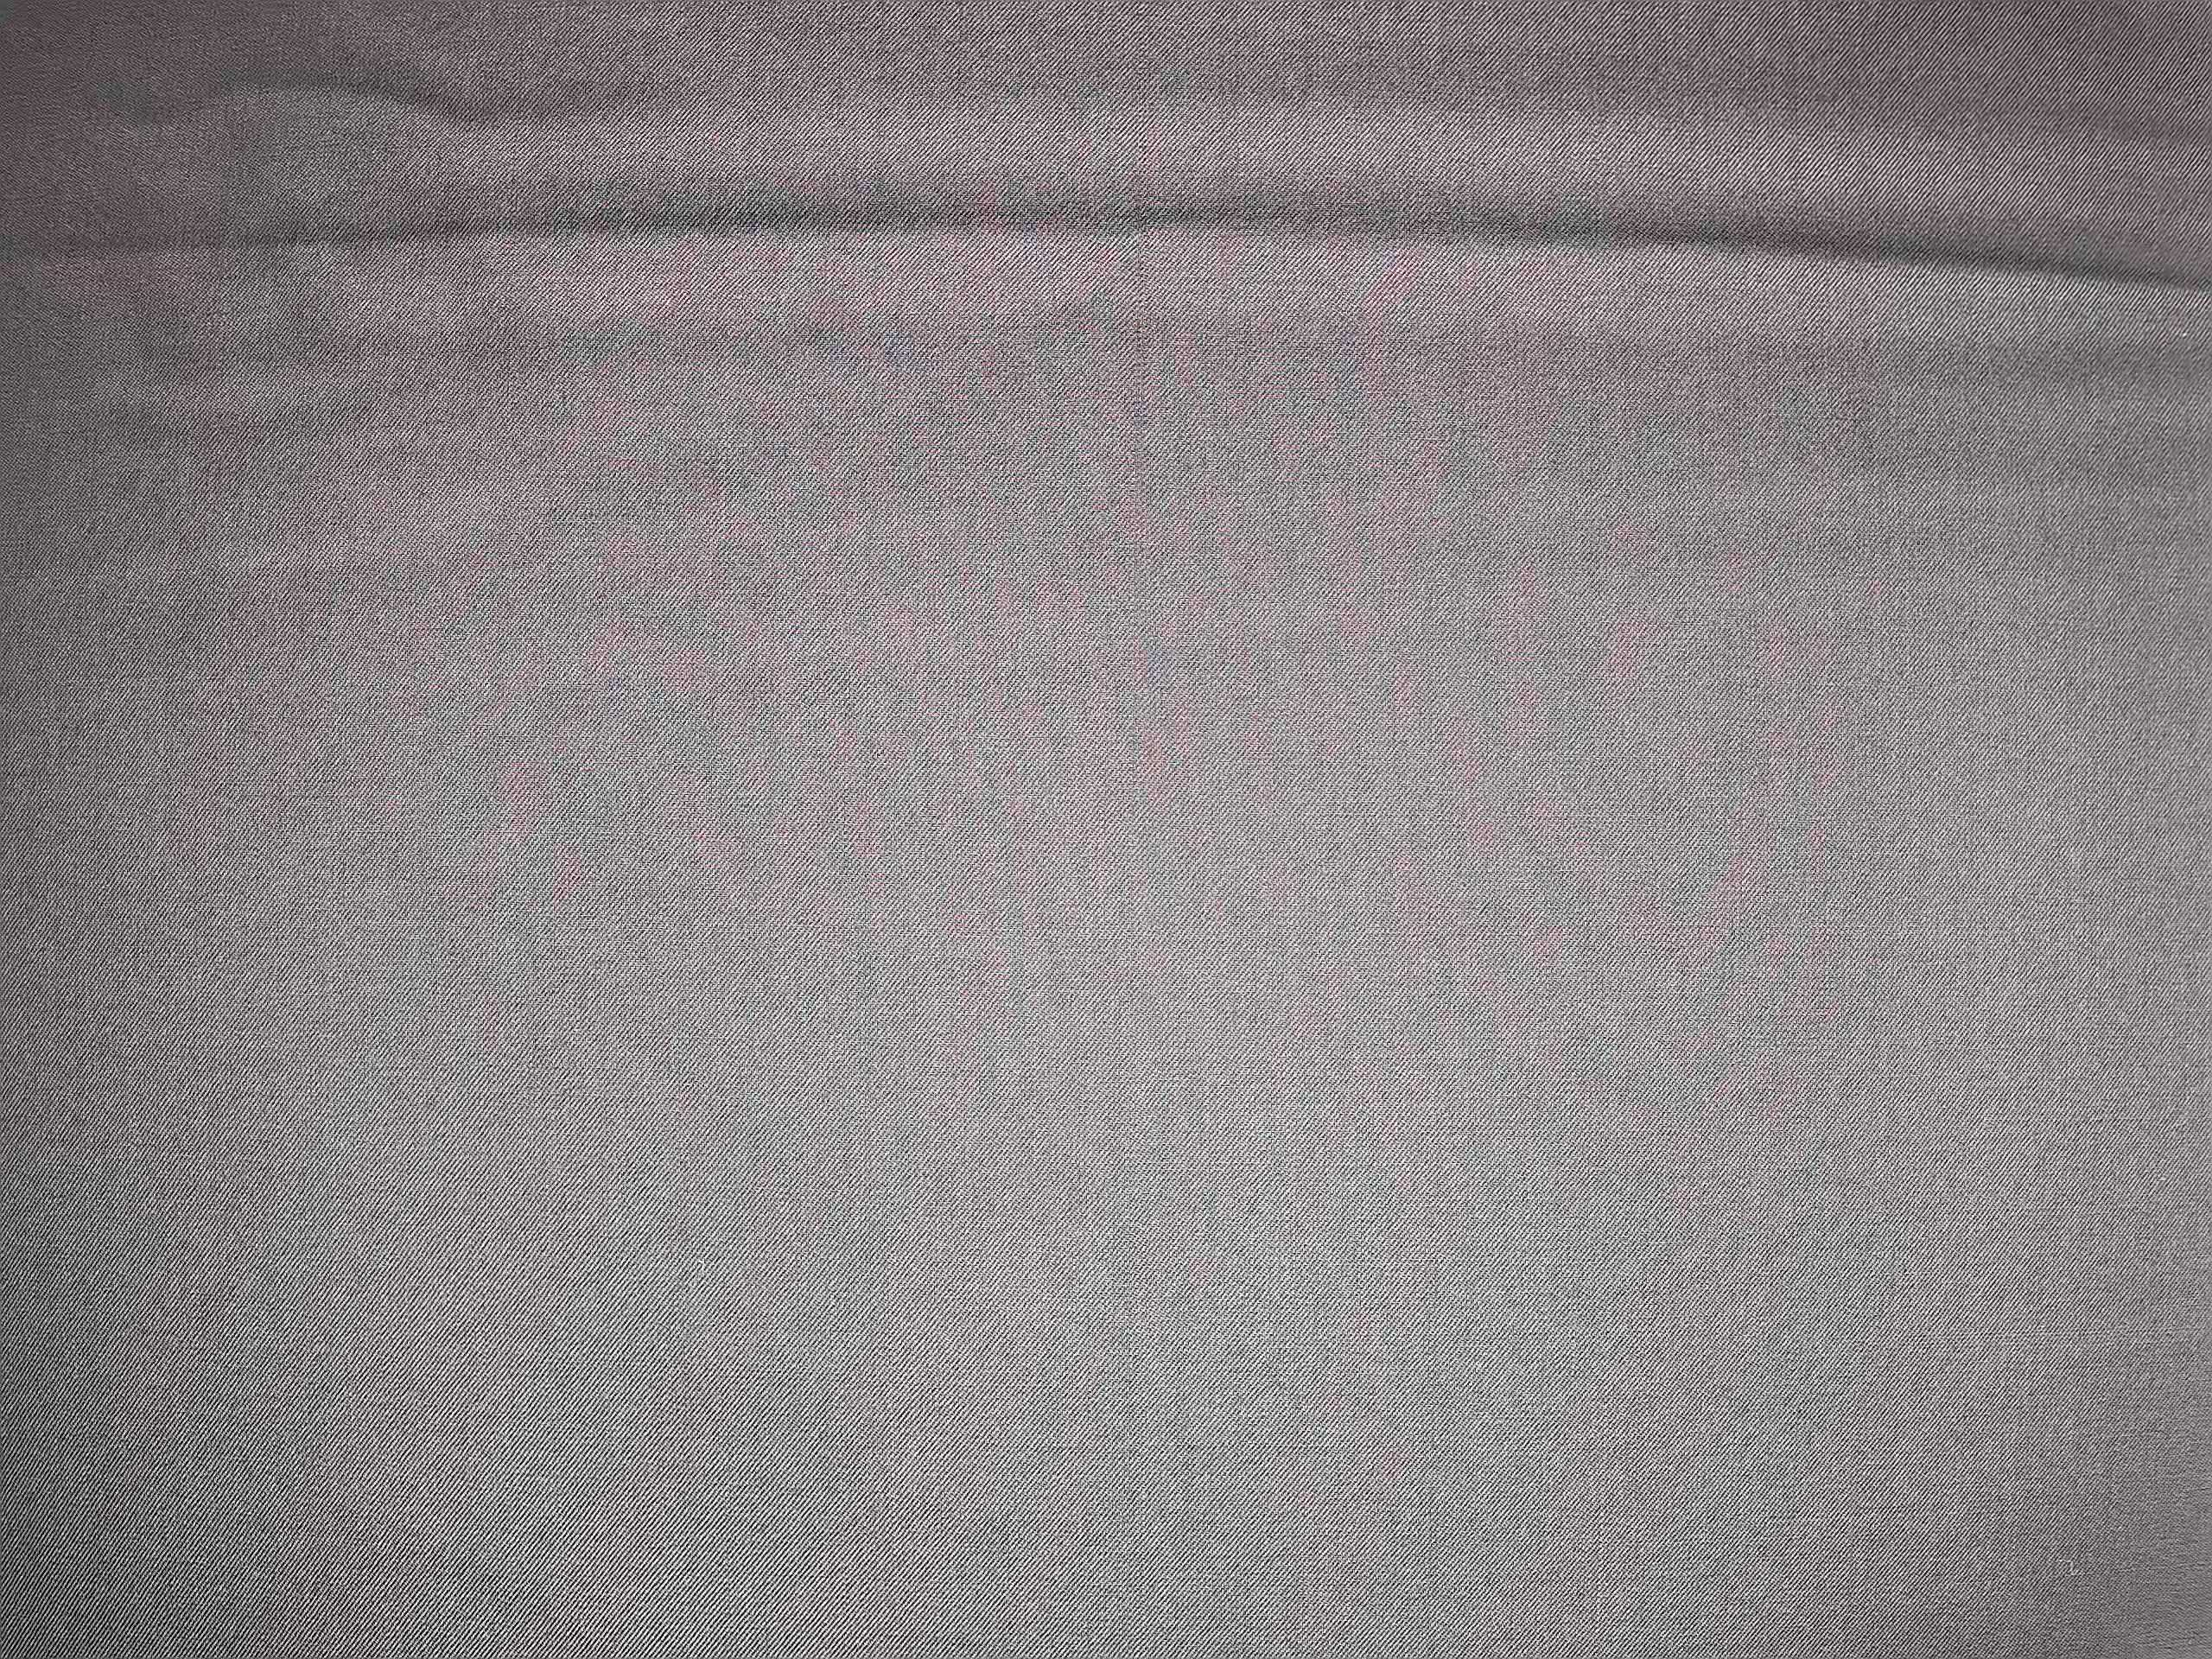hanging-warp: (1118, 2, 1160, 850)
